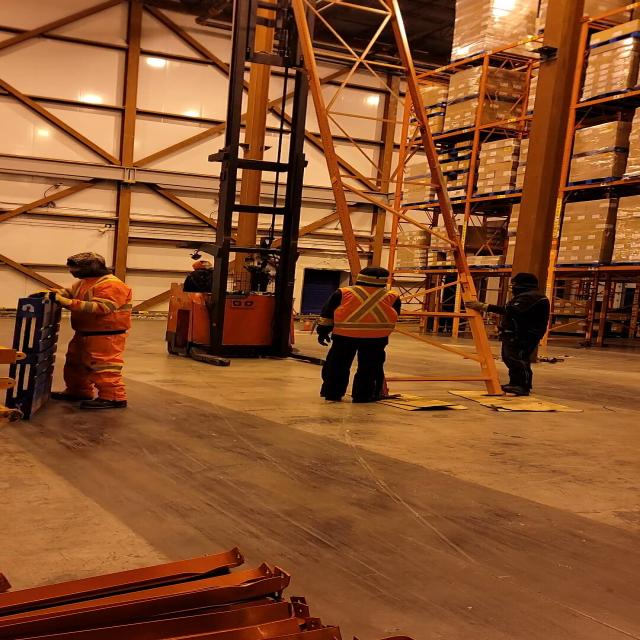forklift: (160, 148, 340, 370)
human: (41, 251, 139, 412), (316, 264, 409, 407), (465, 271, 552, 399), (163, 255, 237, 293)
objectofinterest: (295, 2, 508, 406), (1, 289, 61, 422), (445, 386, 584, 415), (341, 385, 473, 411)
